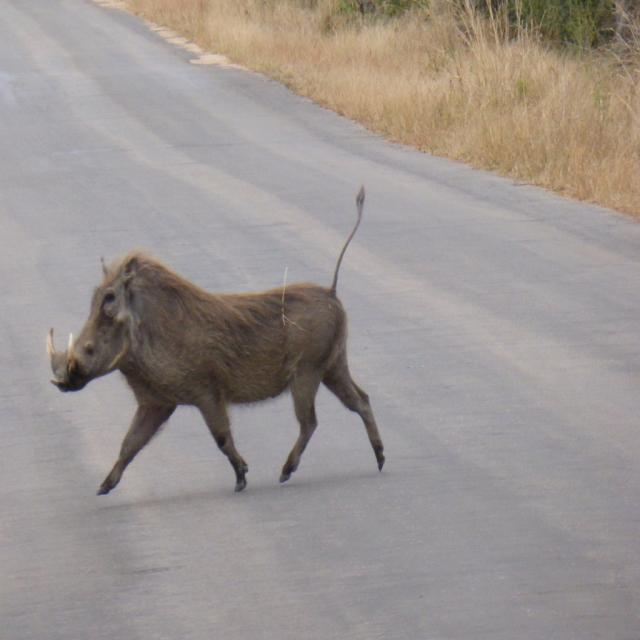Pig: (46, 184, 385, 497)
